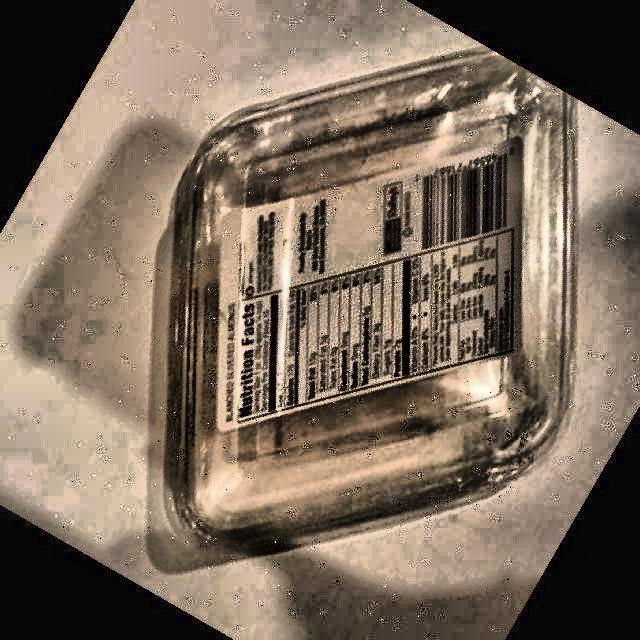plastic: (150, 48, 574, 553)
